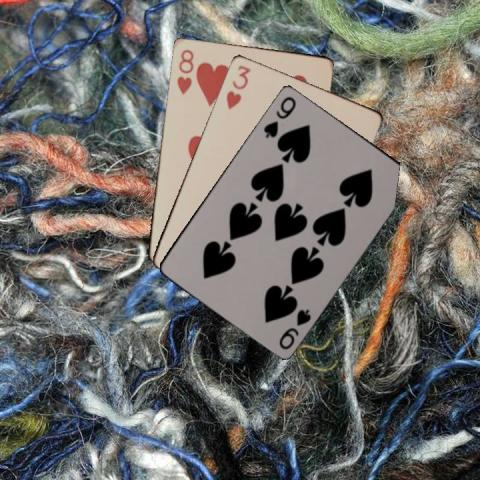3h: (223, 61, 251, 111)
8h: (174, 46, 196, 95)
9s: (260, 93, 298, 139), (275, 305, 313, 351)
